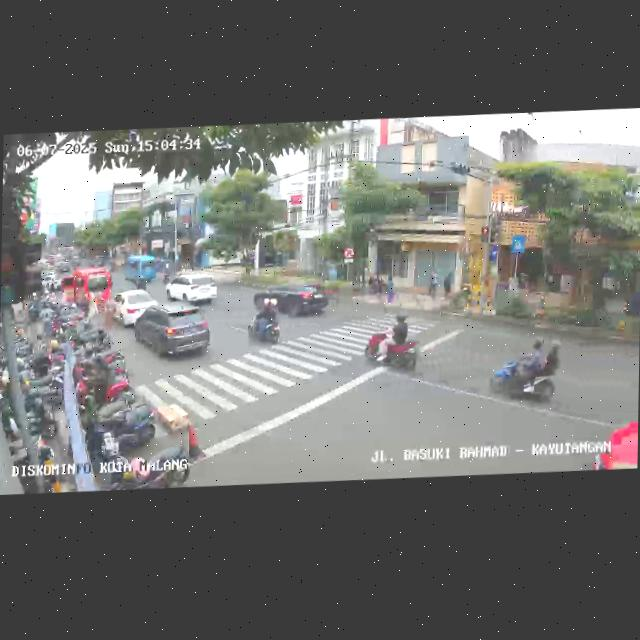car: (132, 301, 212, 363), (260, 280, 330, 322), (57, 264, 110, 316), (597, 411, 638, 470), (164, 269, 219, 309), (106, 287, 158, 328), (122, 253, 158, 287)
motorcycle: (488, 337, 562, 410), (365, 311, 425, 377), (247, 295, 282, 346)
